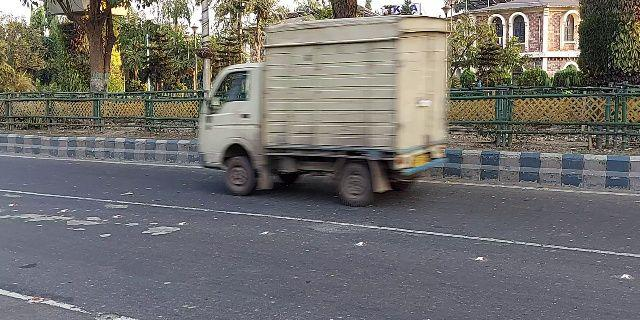Minitruck: (187, 18, 453, 204)
